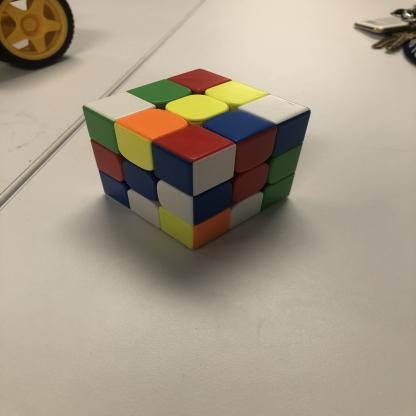SolvedCube: (94, 66, 316, 248)
